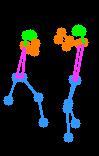normal: (46, 18, 98, 148), (1, 26, 55, 131)
